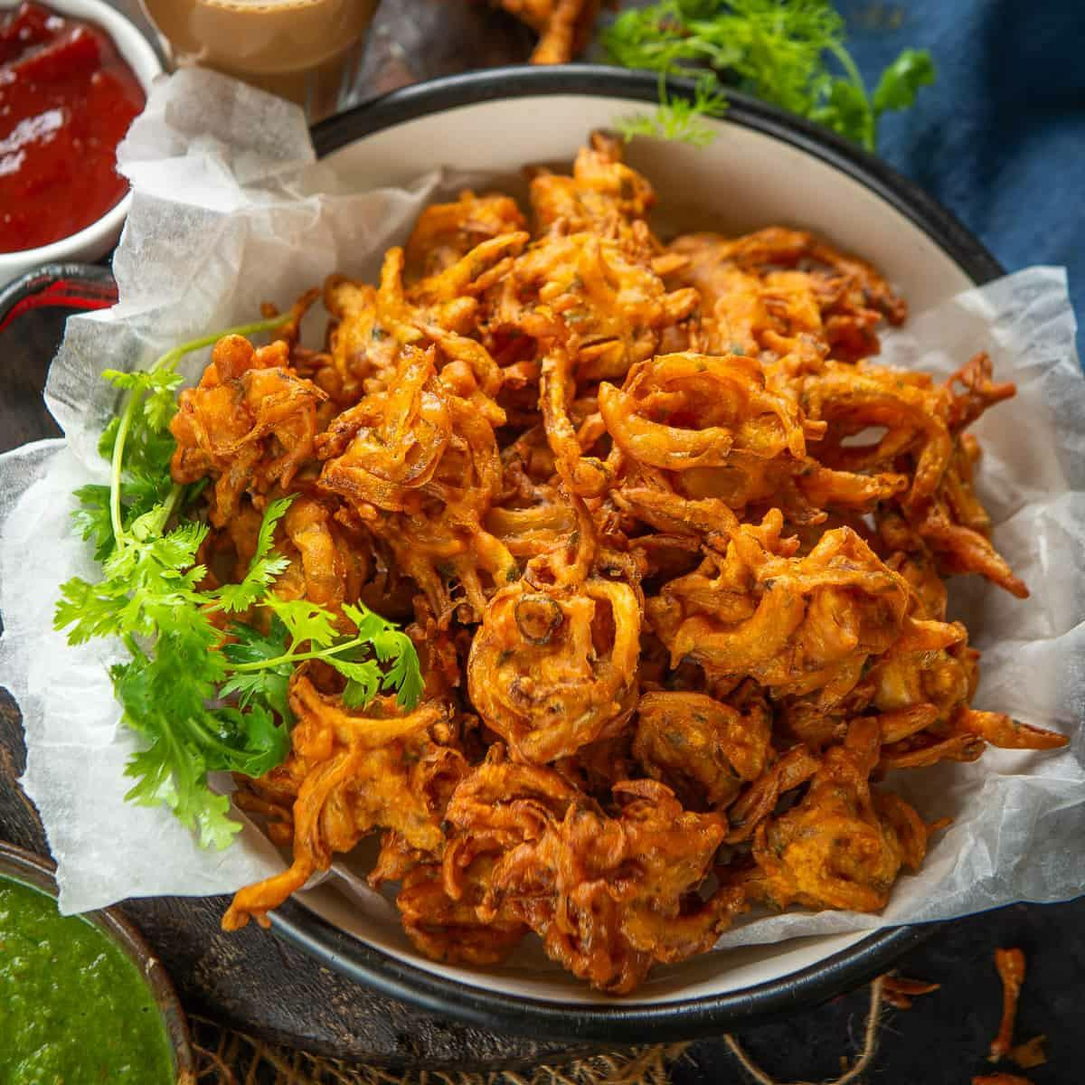OnionPakoda: (152, 125, 1064, 978)
